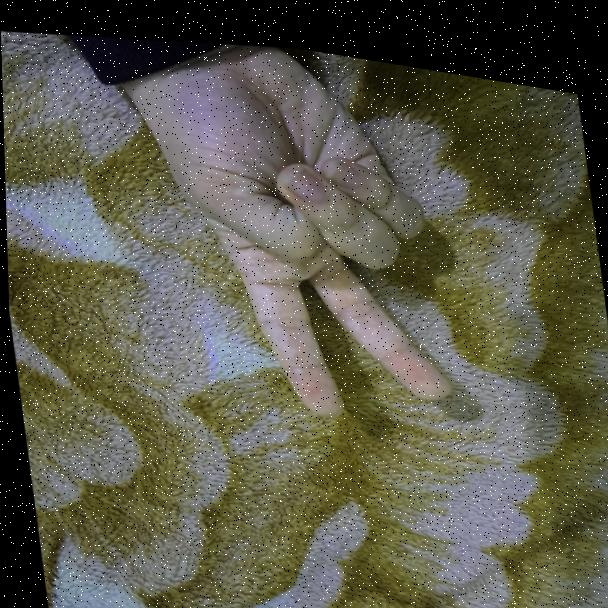two: (185, 29, 464, 431)
